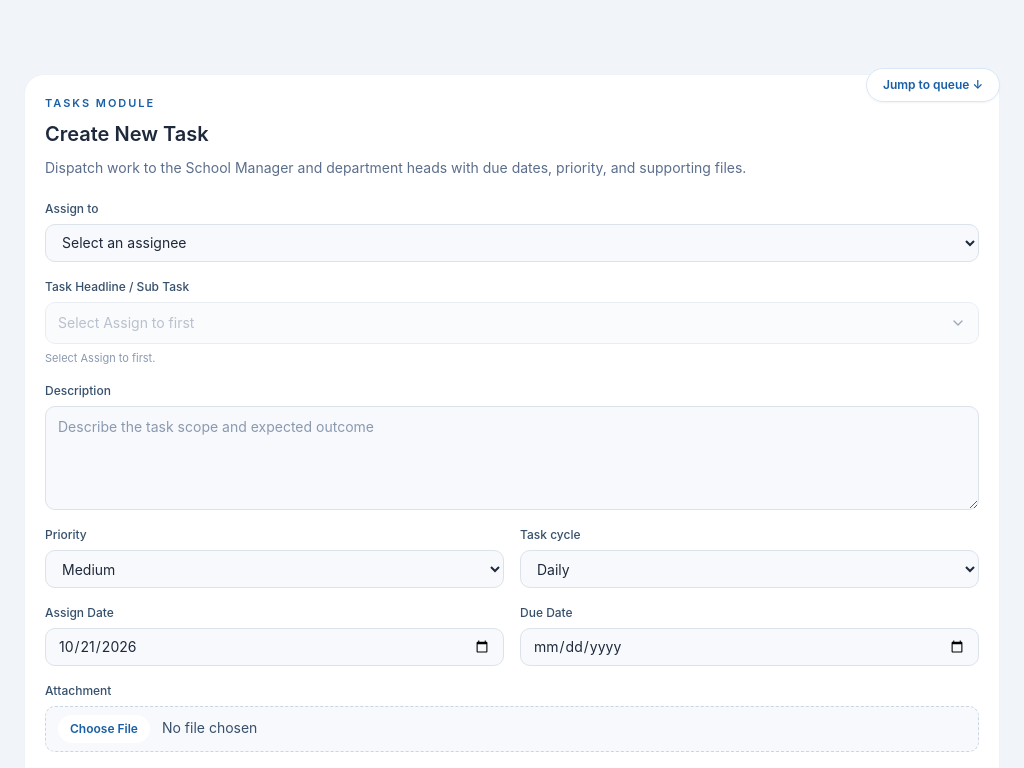
Test: Assignment Queue › filtering by Assign to › shows only global headlines and the assignee's own headlines
Select "HR Head - Anita" in the dropdown labelled "Assign to" at [512, 242], box [45,224,979,262]
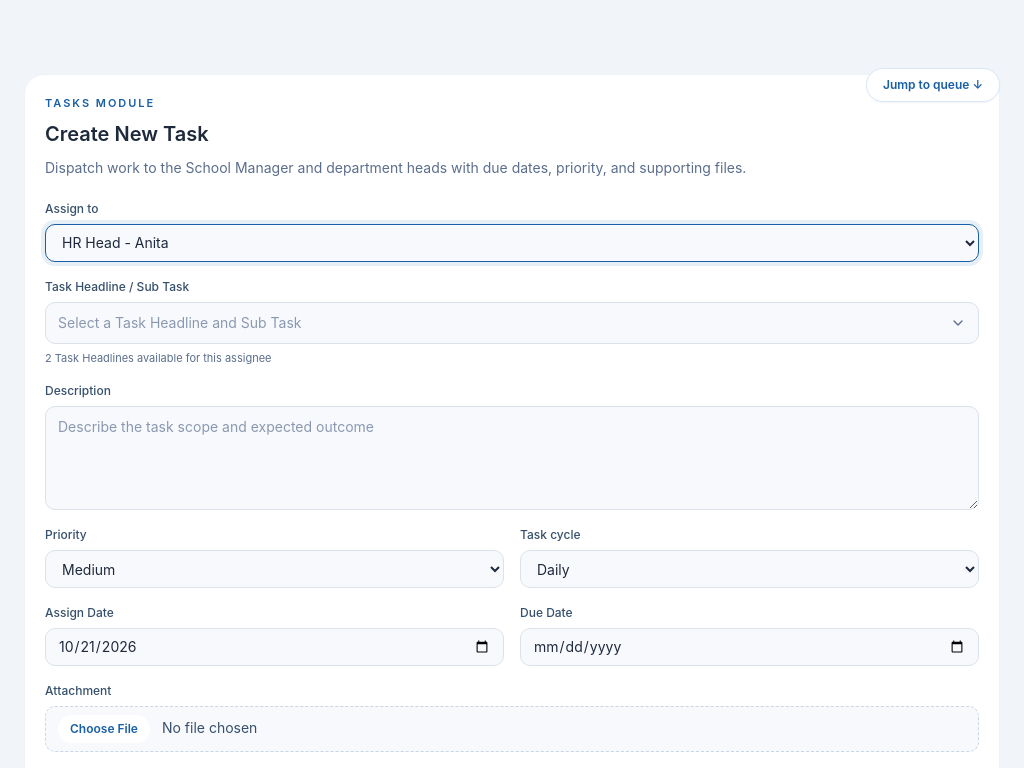
Click the button "Select a Task Headline and Sub Task" at [180, 322], box [45,302,979,344]
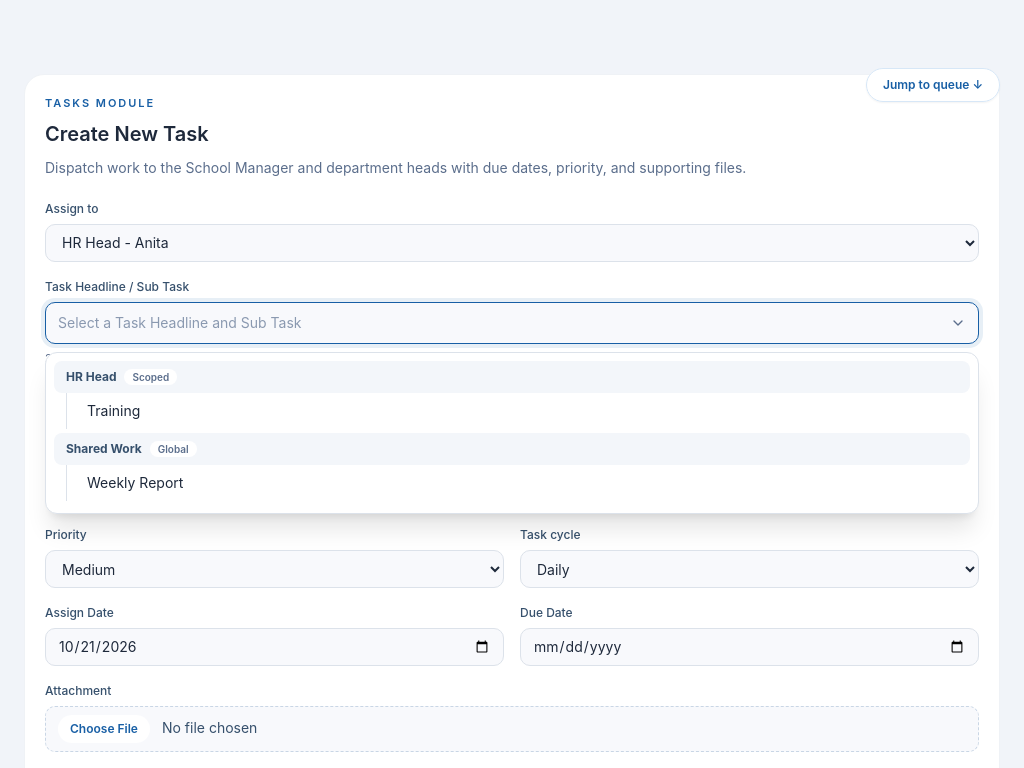
Result: the text "HR Head" is shown at [66,368,116,384]
Result: the button "Training" is shown at [75,392,970,428]
Result: the text "Shared Work" is shown at [66,440,142,456]
